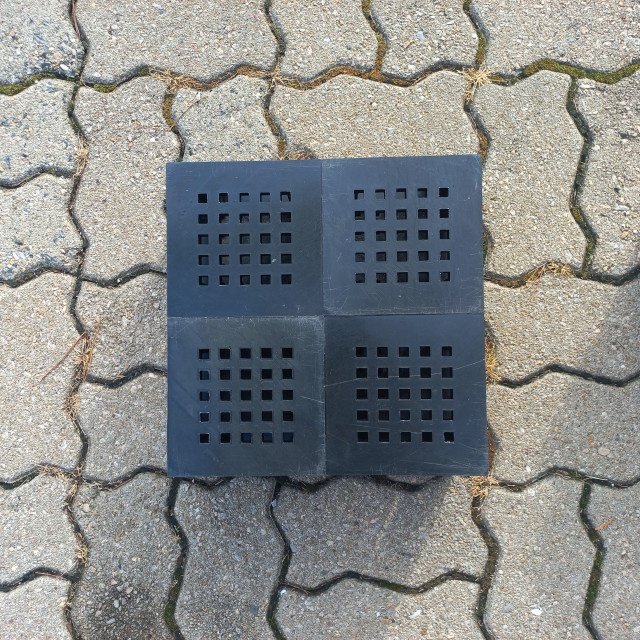pallet: (166, 156, 485, 485)
